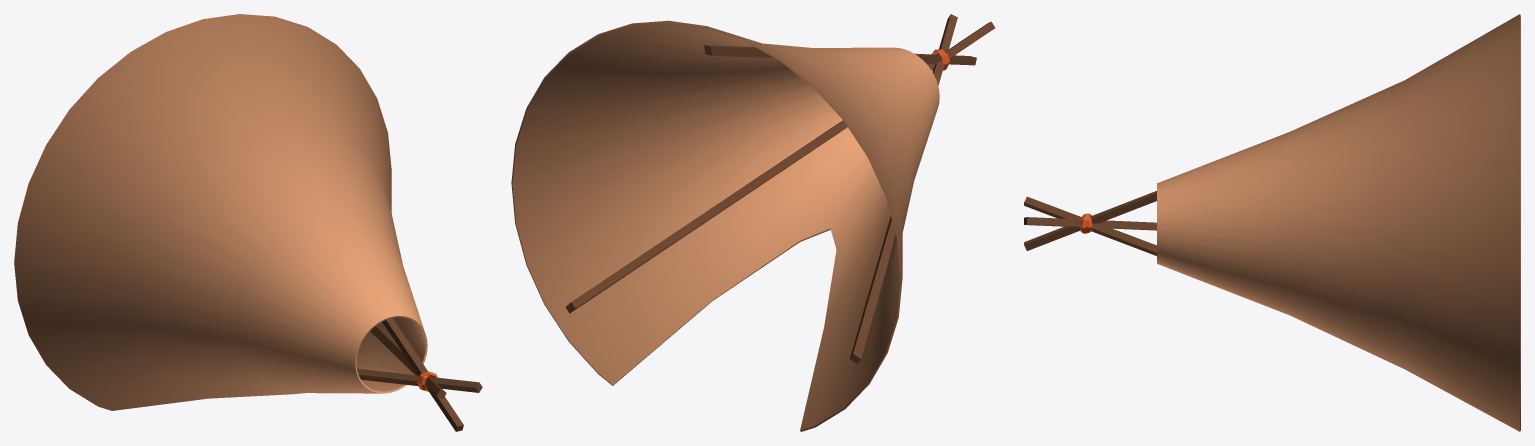
File: Tent.gltf
The picture shows the model from 3 angles, left to right: view 1: azimuth 30°, elevation 25°; view 2: azimuth 150°, elevation 25°; view 3: azimuth 270°, elevation 25°; orthographic projection. The views are drawn at different scales.
Visible parts, largest first — view 1: Tent_01_LOD0; view 2: Tent_01_LOD0; view 3: Tent_01_LOD0.
Part boxes in pixels (x1,y1,x2,y2): Tent_01_LOD0: [14, 14, 482, 431]; Tent_01_LOD0: [511, 14, 995, 431]; Tent_01_LOD0: [1024, 14, 1520, 431].
Bounding box in the file's own units: 2.62 × 2.45 × 3.1.
